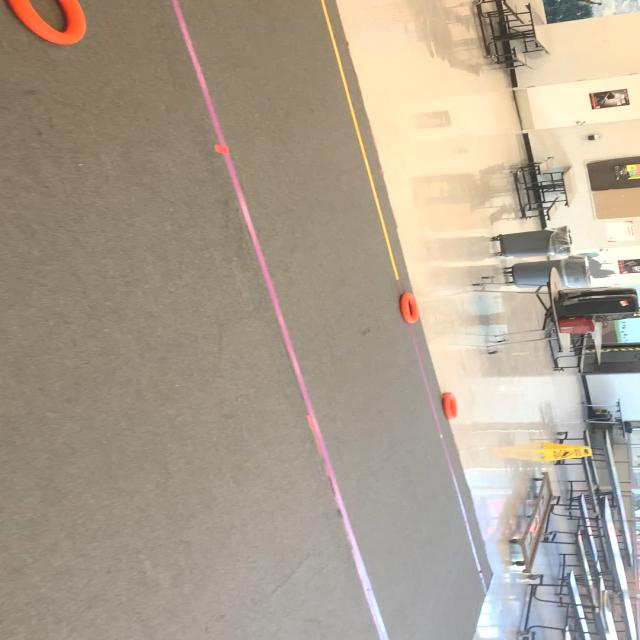notes: (0, 0, 94, 44), (435, 387, 462, 423), (402, 290, 424, 329)
